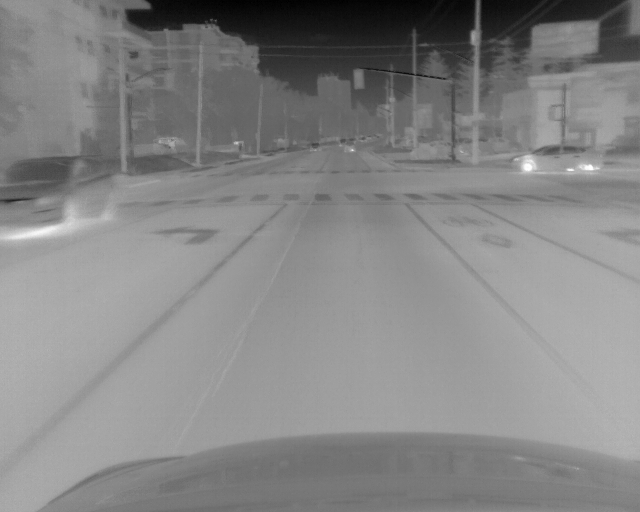car: (1, 155, 121, 236), (512, 144, 603, 175), (344, 140, 355, 154), (307, 142, 320, 153), (359, 135, 369, 143), (339, 138, 348, 146)
